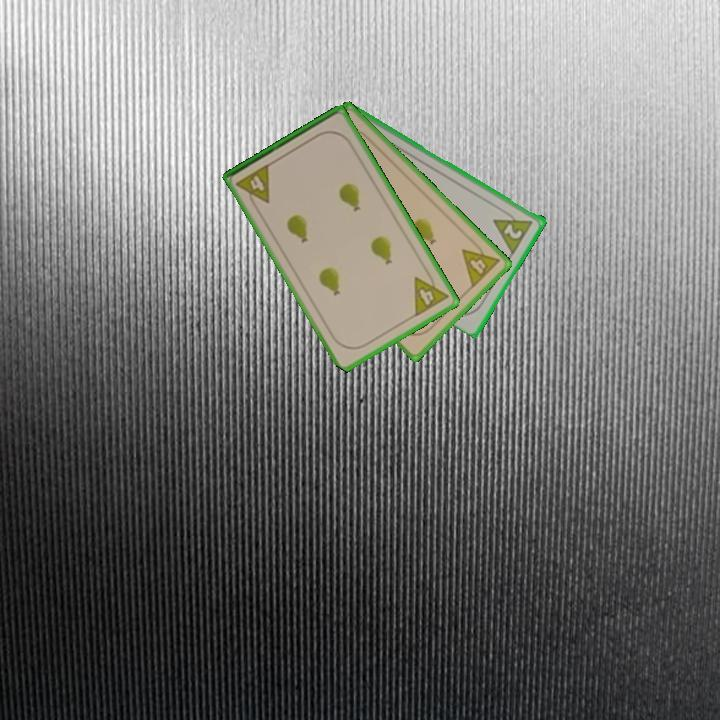2p: (490, 204, 536, 256)
4p: (458, 236, 503, 291), (411, 267, 451, 320), (233, 160, 273, 212)
